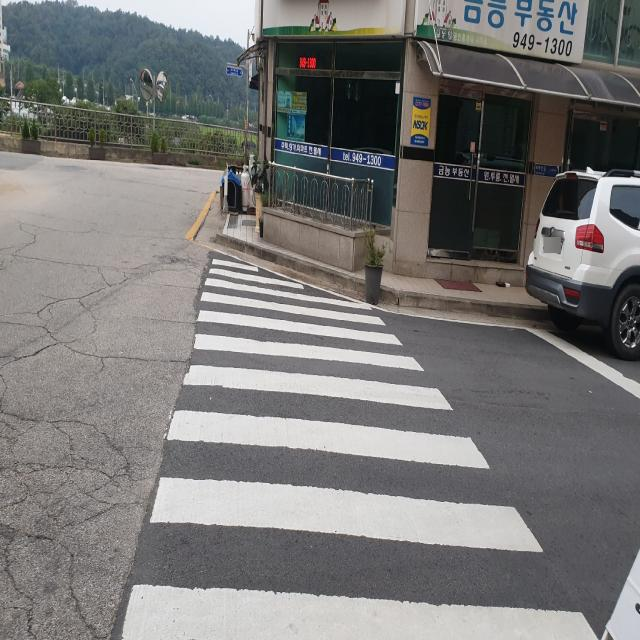횡단보도: (115, 256, 602, 640)
